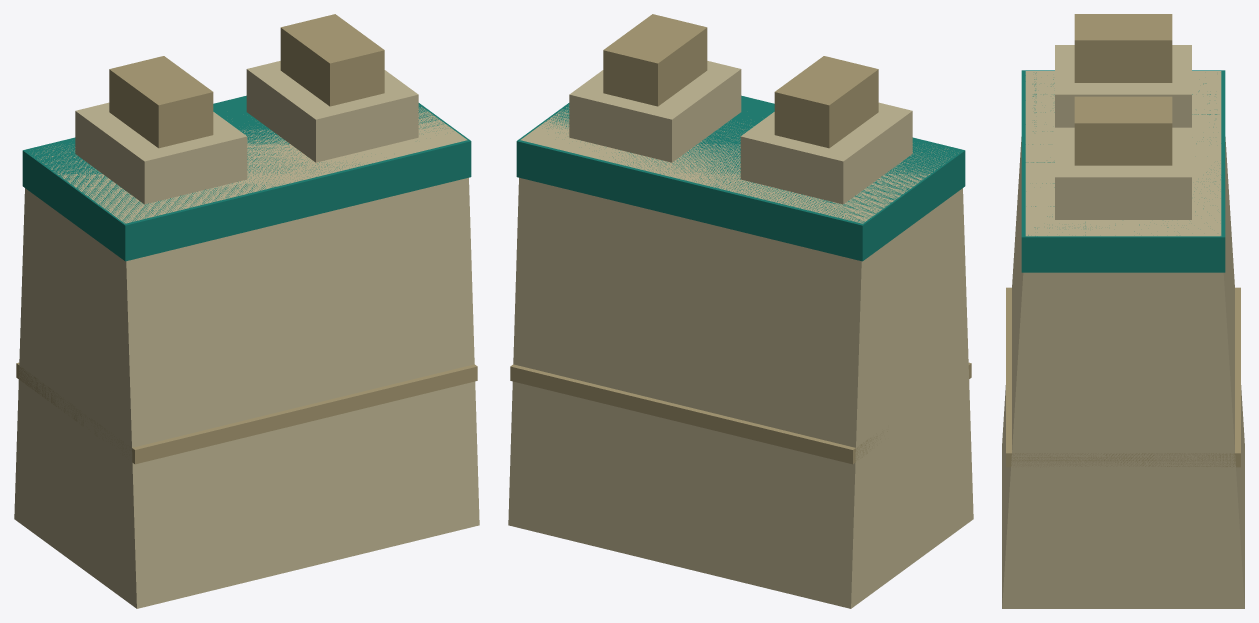
File: wall_t2_seg.glb
The picture shows the model from 3 angles, left to right: view 1: azimuth 30°, elevation 25°; view 2: azimuth 150°, elevation 25°; view 3: azimuth 270°, elevation 25°; orthographic projection.
Parts seen in each view (by area): view 1: body; view 2: body; view 3: body.
Boxes of the visible parts, x1,y1,x2,y2 form: body: (14,14,479,608); body: (508,14,973,608); body: (1002,14,1244,608).
Bounding box in the file's own units: 1.01 × 1.29 × 0.62.
